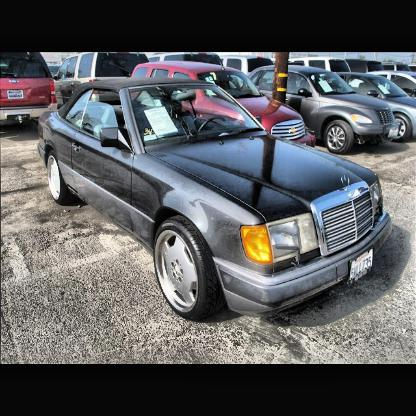Mercedes-Benz 300-Class Convertible 1993: (37, 78, 393, 323)
